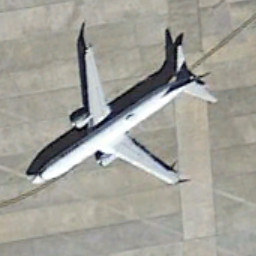Airplane: (12, 21, 232, 203)
